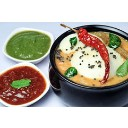idly: (73, 45, 120, 77)
